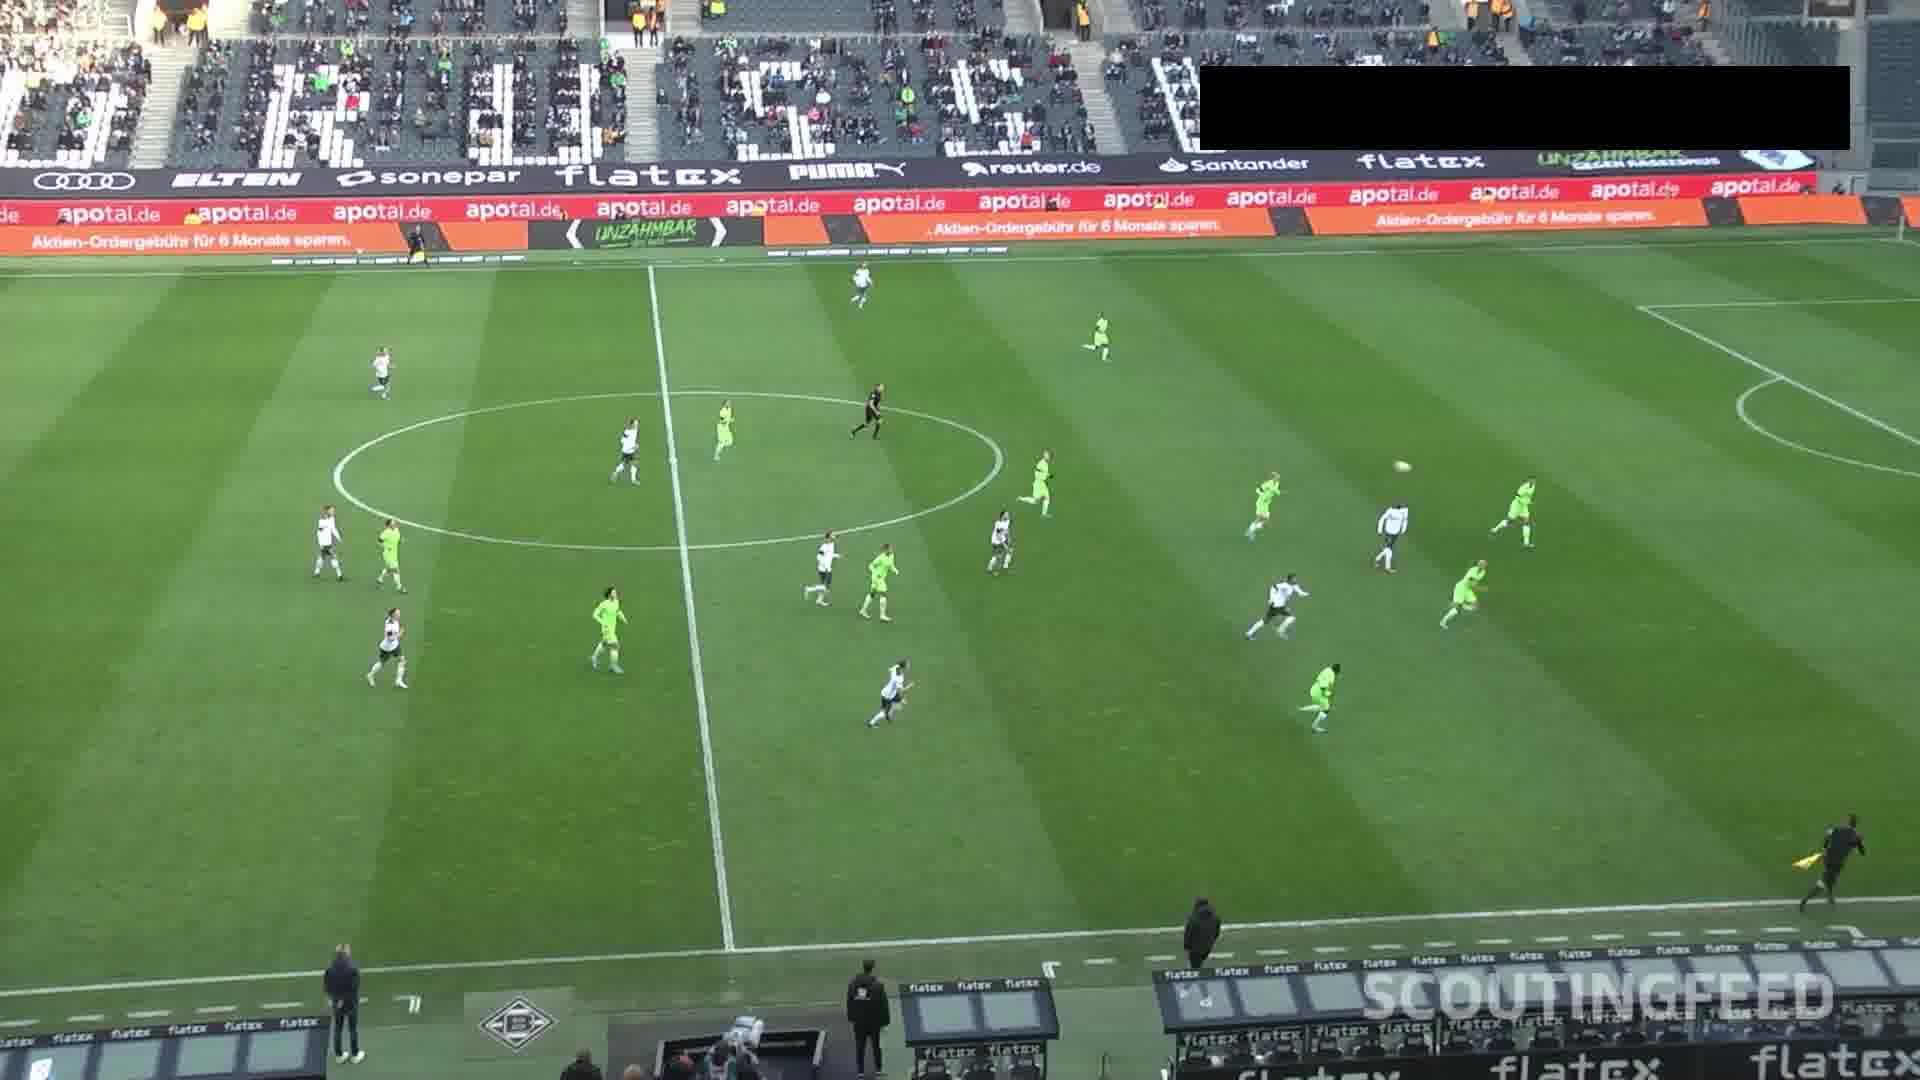football: (1393, 458, 1414, 475)
